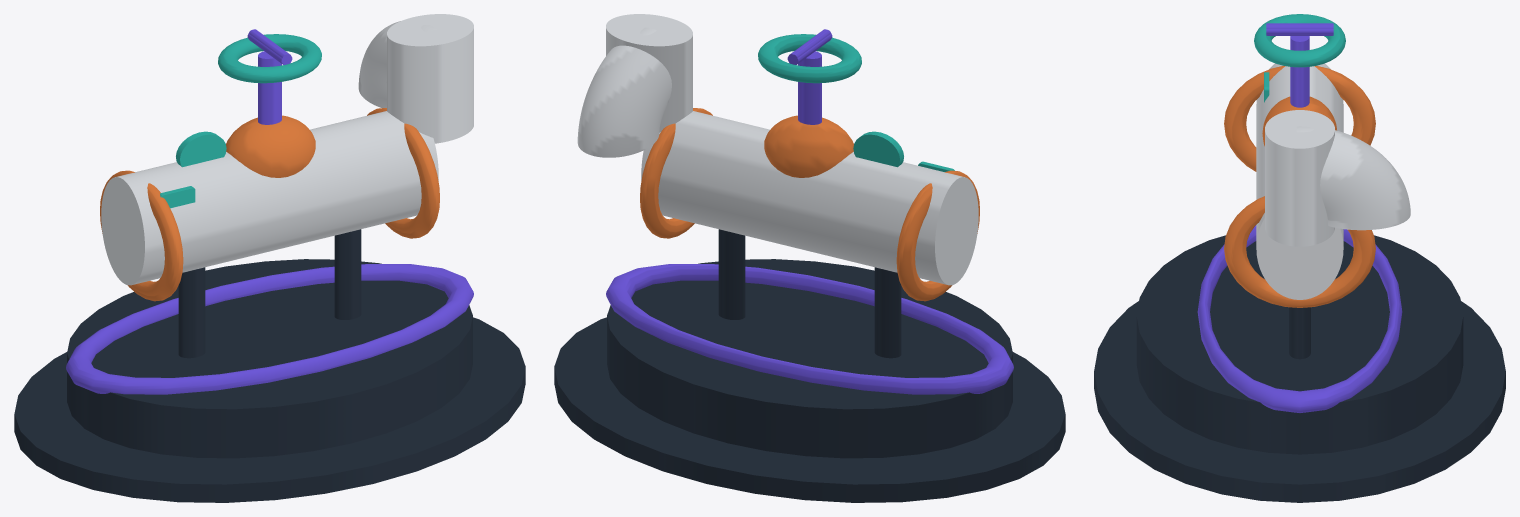
Rendered from 1362_城市运转图鉴_自动售货机.glb.
3 renders of one model, left to right at view 1: azimuth 30°, elevation 25°; view 2: azimuth 150°, elevation 25°; view 3: azimuth 270°, elevation 25°, orthographic.
Parts seen in each view (by area): view 1: card_1362; view 2: card_1362; view 3: card_1362.
Part boxes in pixels (left/top/right/bottom): card_1362: left=14, top=14, right=525, bottom=502; card_1362: left=554, top=14, right=1065, bottom=502; card_1362: left=1094, top=14, right=1505, bottom=502.
Bounding box in the file's own units: 1.34 × 1 × 1.02.
